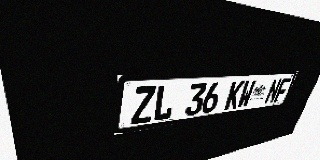3: (184, 83, 207, 116)
6: (200, 82, 223, 114)
F: (273, 78, 291, 103)
K: (224, 80, 245, 110)
L: (152, 84, 177, 122)
N: (264, 78, 283, 104)
W: (236, 80, 257, 108)
Z: (131, 86, 156, 125)
